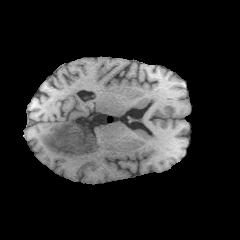glioma: (39, 123, 97, 159)
